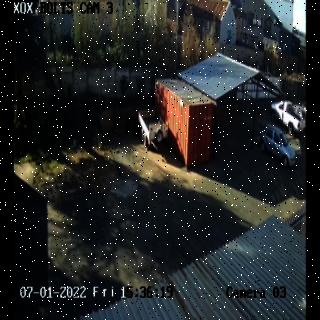car: (259, 125, 295, 167), (270, 100, 304, 136)
